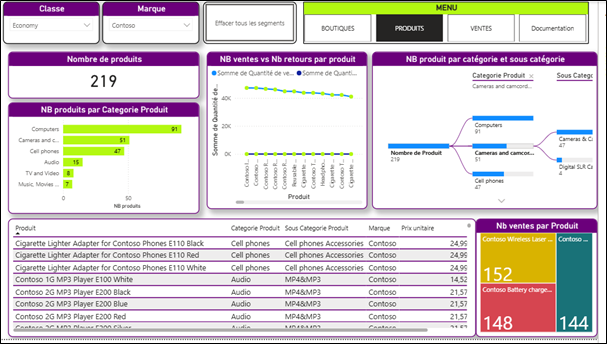

The dashboard page shown, as its layout file describes it:
{"tool":"powerbi","page":{"name":"PRODUITS","canvas":[1280,720],"ordinal":1},"visuals":[{"type":"slicer","title":"Classe","fields":{"Values":["Produits.Class"]},"box":[10,0,206.2,90],"z":0},{"type":"slicer","title":"Marque","fields":{"Values":["Produits.Marque"]},"box":[221.2,0,207.5,90],"z":1000},{"type":"card","title":"Nombre de produits","fields":{"Values":["Produits.NB produits"]},"box":[20.4,107.3,408.9,99.7],"z":2000},{"type":"barChart","fields":{"Category":["Categorie Produits.Categorie Produit"],"Y":["Produits.NB produits"]},"box":[20.4,214.7,408.9,237.7],"z":3000},{"type":"tableEx","fields":{"Values":["Produits.Produit","Categorie Produits.Categorie Produit","Sous Categories Produits.Sous Categorie Produit","Produits.Marque","Produits.Prix unitaire","Sales.Nb ventes"]},"box":[20,462.9,1000,252.9],"z":4000},{"type":"lineChart","title":"NB ventes vs Nb retours par produit","fields":{"Category":["Produits.Produit"],"Y":["Sum(Sales.Quantité de vente)","Sum(Sales.Quantité de retour)"]},"box":[444.3,107.1,342.9,335.7],"z":5000},{"type":"decompositionTreeVisual","title":"NB produit par catégorie et sous catégorie","fields":{"Analyze":["CountNonNull(Produits.Produit)"],"ExplainBy":["Categorie Produits.Categorie Produit","Sous Categories Produits.Sous Categorie Produit"]},"box":[798.6,107.1,481.4,335.7],"z":6000},{"type":"treemap","fields":{"Group":["Produits.Produit"],"Values":["Sales.Nb ventes"]},"box":[1020,462.9,260,252.9],"z":7000},{"type":"actionButton","box":[436.2,0,200,90],"z":8000},{"type":"pageNavigator","title":"MENU","box":[651.1,0,610,90],"z":9000}]}

Visuals, with their boxes in screenshot pixels (x1, y1, x2, y2), scaled from the page's 1280x720 canvas onto the 607x344 screenshot:
"Classe" slicer: [x1=5, y1=0, x2=103, y2=43]
"Marque" slicer: [x1=105, y1=0, x2=203, y2=43]
"Nombre de produits" card: [x1=10, y1=51, x2=204, y2=99]
barChart - Categorie Produits.Categorie Produit x Produits.NB produits: [x1=10, y1=103, x2=204, y2=216]
tableEx - Produits.Produit x Categorie Produits.Categorie Produit: [x1=9, y1=221, x2=484, y2=342]
"NB ventes vs Nb retours par produit" lineChart: [x1=211, y1=51, x2=373, y2=212]
"NB produit par catégorie et sous catégorie" decompositionTreeVisual: [x1=379, y1=51, x2=606, y2=212]
treemap - Produits.Produit x Sales.Nb ventes: [x1=484, y1=221, x2=606, y2=342]
actionButton: [x1=207, y1=0, x2=302, y2=43]
"MENU" pageNavigator: [x1=309, y1=0, x2=598, y2=43]
